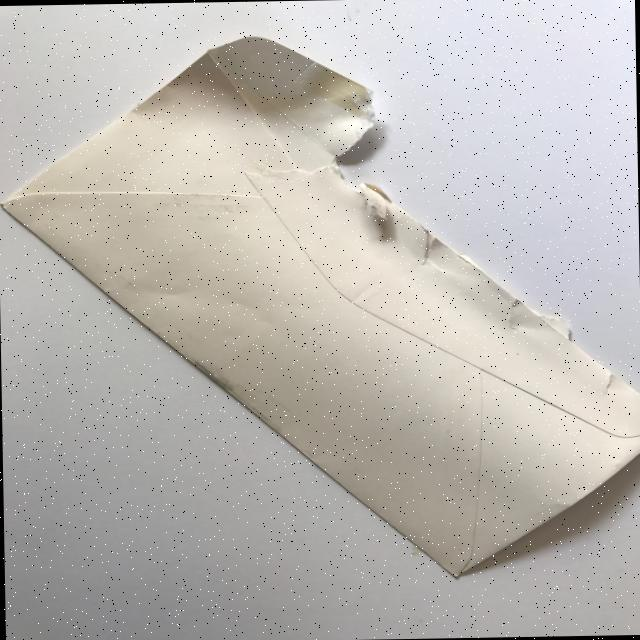paper: (0, 27, 640, 587)
